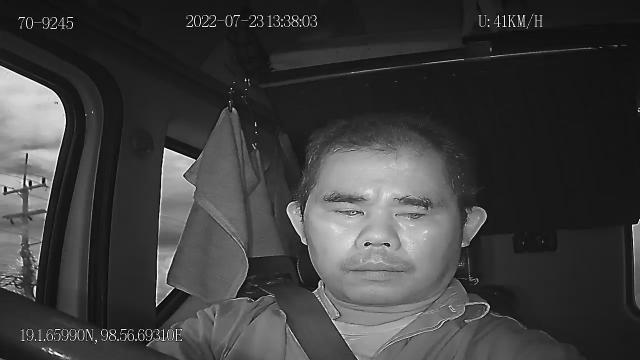SafeDriving: (320, 194, 372, 221), (388, 199, 436, 226)
Seatbelt: (256, 282, 360, 360)
